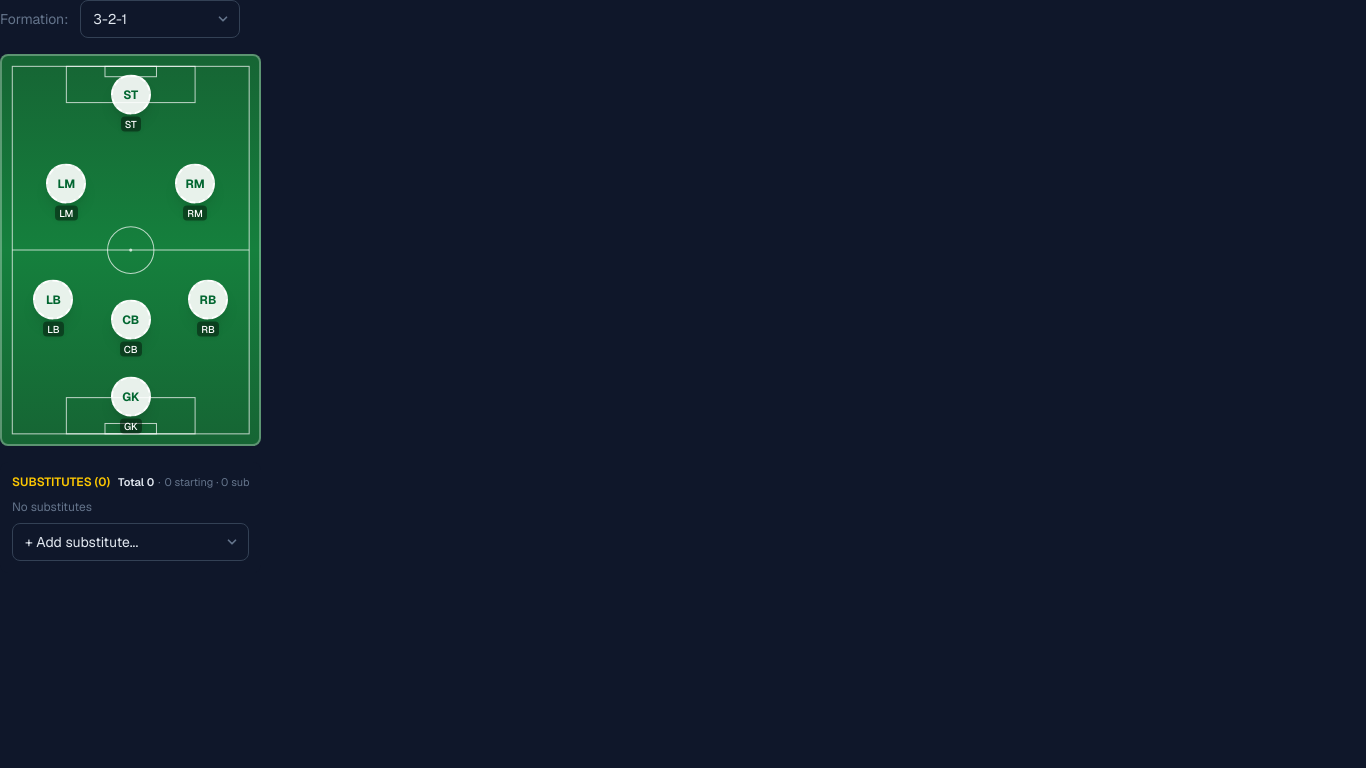
TacticsPanel › puts players with no primary position under "Others"
Click the button with aria-label "assign player to GK" at (131, 405), box left=111, top=377, right=151, bottom=434
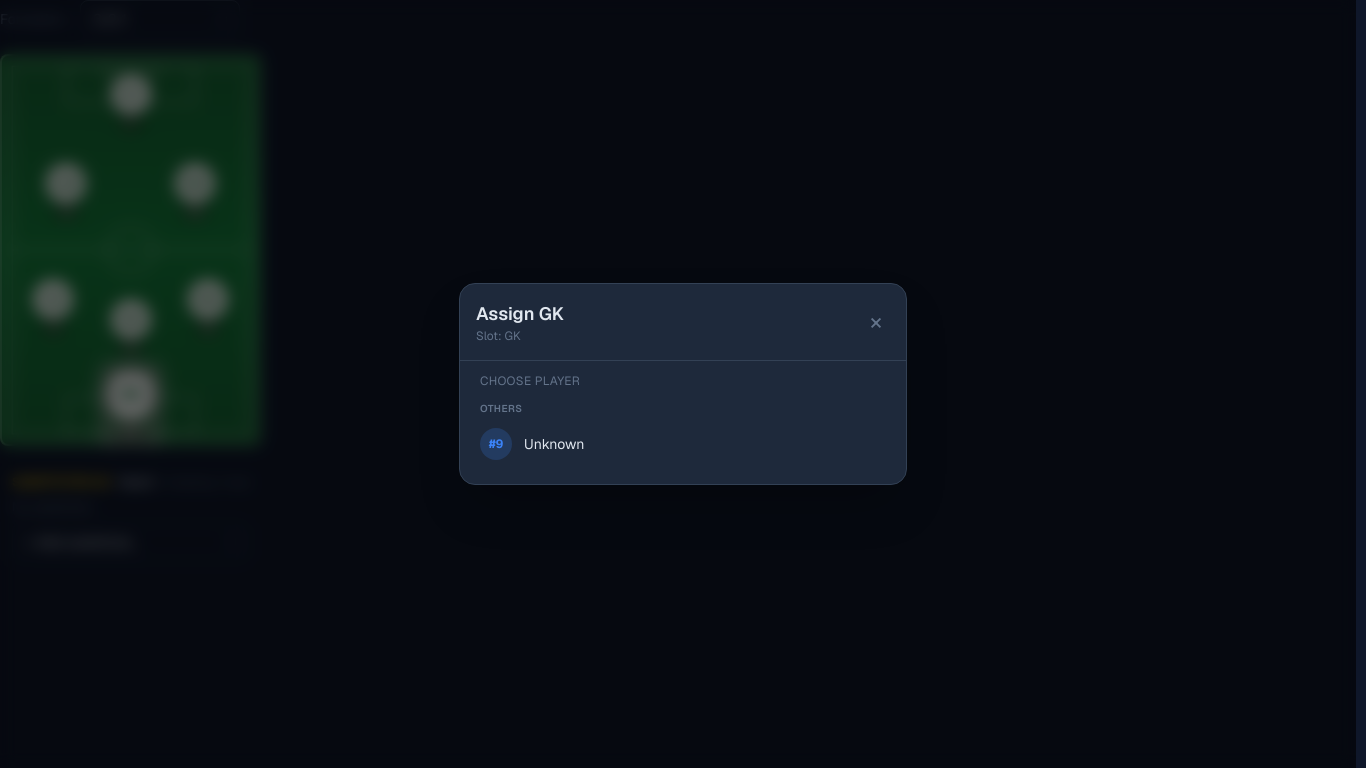
Expected: the heading "Others" is shown, left=480, top=402, right=522, bottom=415
Expected: the text "Unknown" is shown, left=524, top=435, right=584, bottom=453
